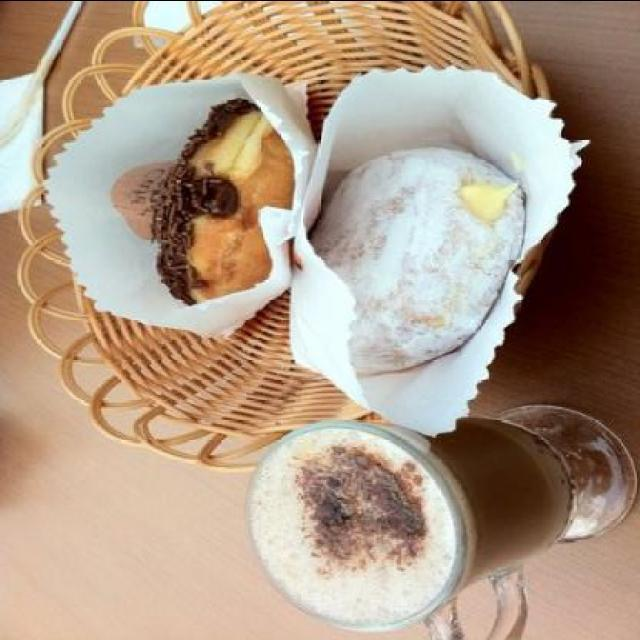Donuts: (128, 58, 576, 390)
